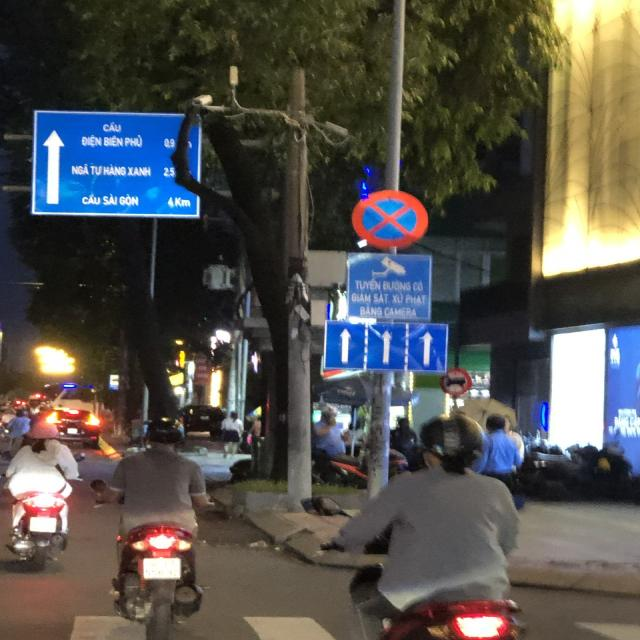Bien bao cam dung xe va do xe: (348, 183, 430, 250)
